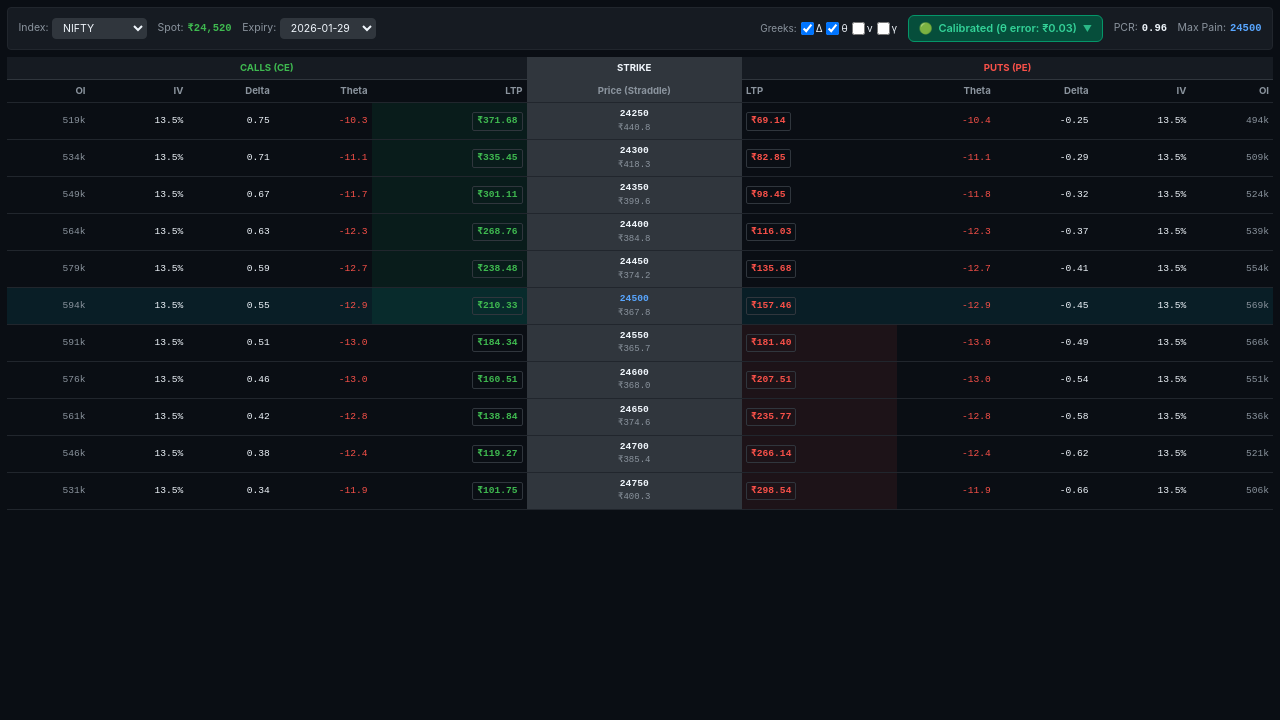
Scenario: OptionChainWidget Component › toggles Vega and Gamma columns on and off
Check: the text "Vega" is not shown
// Toggle Vega on
Click the checkbox labelled "ν": coordinates (858, 28) [852,22,865,35]
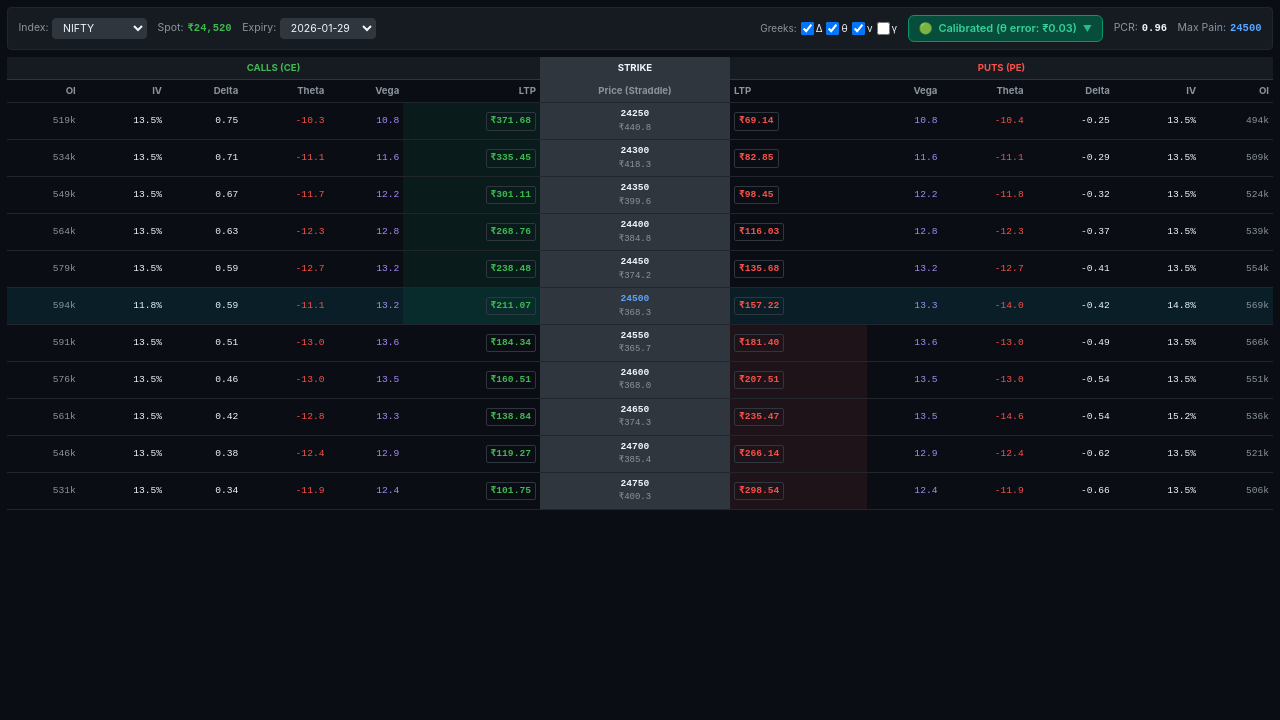
Check: the 1st column heading "Vega" is shown, box [328,79,403,103]
